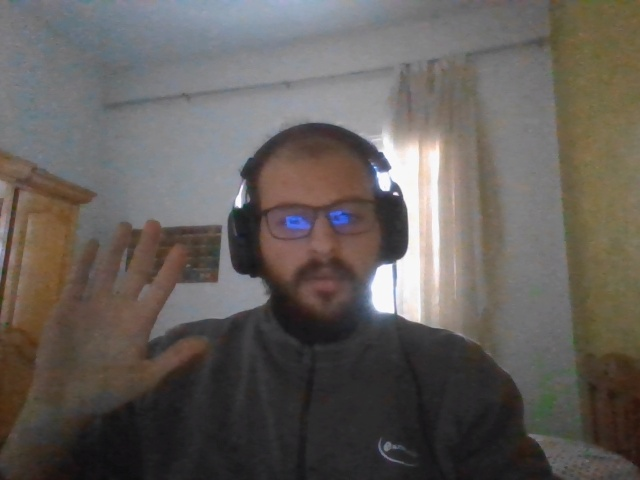Hello: (35, 220, 205, 411)
